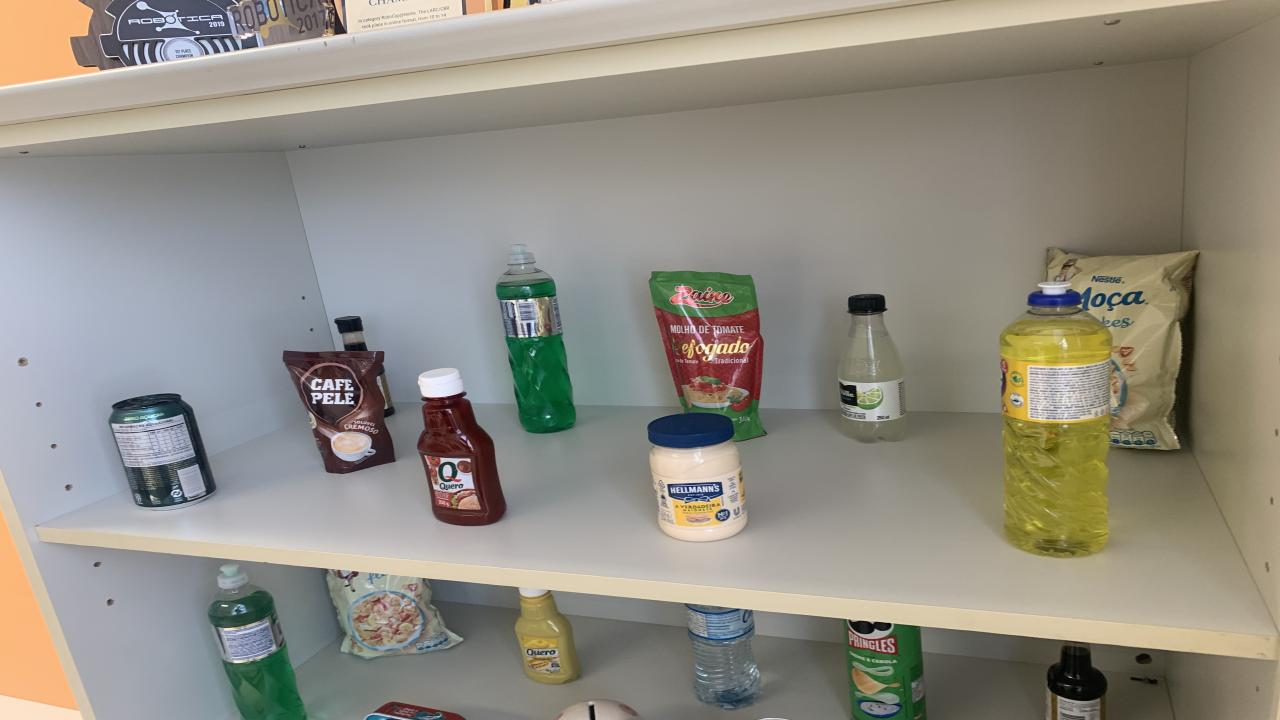Coffee-Pantry_Items: (282, 351, 395, 472)
Detergent-Cleanup_Items: (1000, 281, 1112, 557), (208, 564, 308, 720), (495, 244, 575, 433)
English_Sauce-Pantry_Items: (1045, 641, 1108, 720), (335, 315, 368, 351), (378, 368, 395, 416)
Flakes-Snacks: (1048, 248, 1198, 450), (328, 570, 462, 658)
Guarana_Can-Drinks: (110, 394, 218, 510)
Ketchup-Pantry_Items: (418, 368, 505, 525)
Mayonnaise-Pantry_Items: (648, 412, 748, 542)
Mustard-Pantry_Items: (515, 587, 580, 684)
Pig_Safe-Miscellaneous: (555, 699, 640, 720)
Pringles-Snacks: (842, 621, 925, 720)
Soda-Drinks: (838, 294, 905, 442), (1052, 478, 1055, 484)
Tomato_Sauce-Pantry_Items: (650, 270, 765, 441)
Tuna_Can-Pantry_Items: (365, 701, 465, 720)
Water_Bottle-Drinks: (688, 604, 760, 709)
